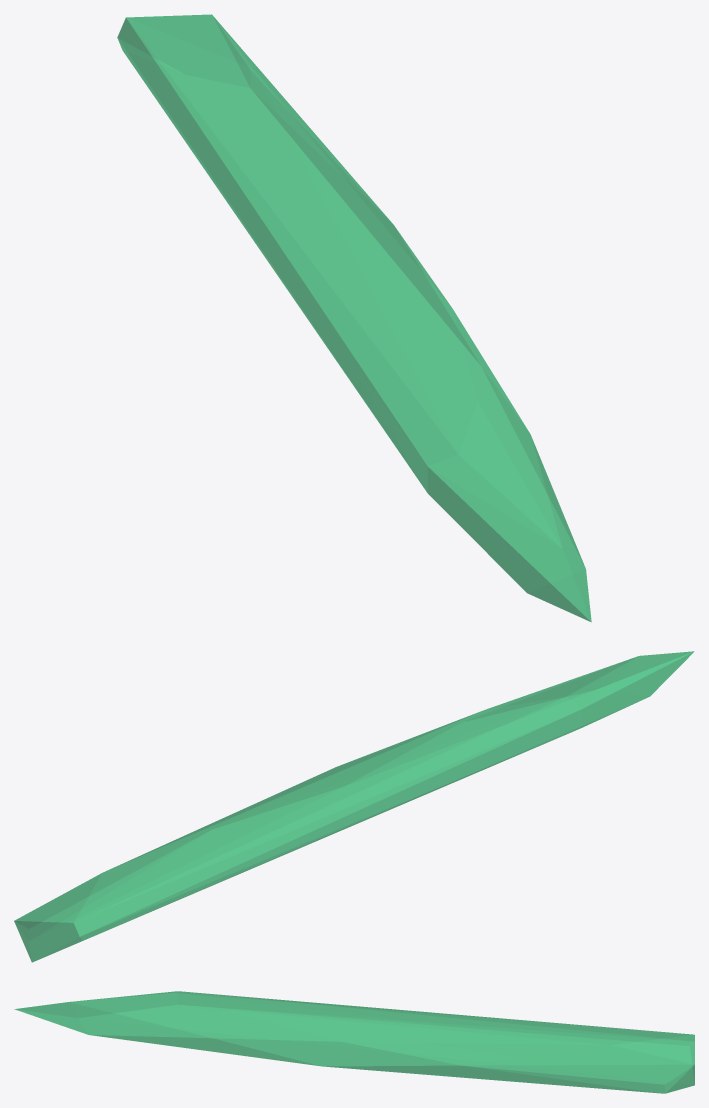
3 views of the same model, one above another, from view 1: azimuth 30°, elevation 25°; view 2: azimuth 150°, elevation 25°; view 3: azimuth 270°, elevation 25° (orthographic). The views are drawn at different scales.
Parts seen in each view (by area): view 1: Shape_IndexedFaceSet.035_Shape_IndexedFaceSet.3420; view 2: Shape_IndexedFaceSet.035_Shape_IndexedFaceSet.3420; view 3: Shape_IndexedFaceSet.035_Shape_IndexedFaceSet.3420.
Part boxes in pixels (x1=…): Shape_IndexedFaceSet.035_Shape_IndexedFaceSet.3420: x1=117, y1=14, x2=591, y2=622; Shape_IndexedFaceSet.035_Shape_IndexedFaceSet.3420: x1=14, y1=651, x2=694, y2=962; Shape_IndexedFaceSet.035_Shape_IndexedFaceSet.3420: x1=14, y1=991, x2=694, y2=1093.
Size of the model in its own units: 0.0426 by 0.00946 by 0.1621.
